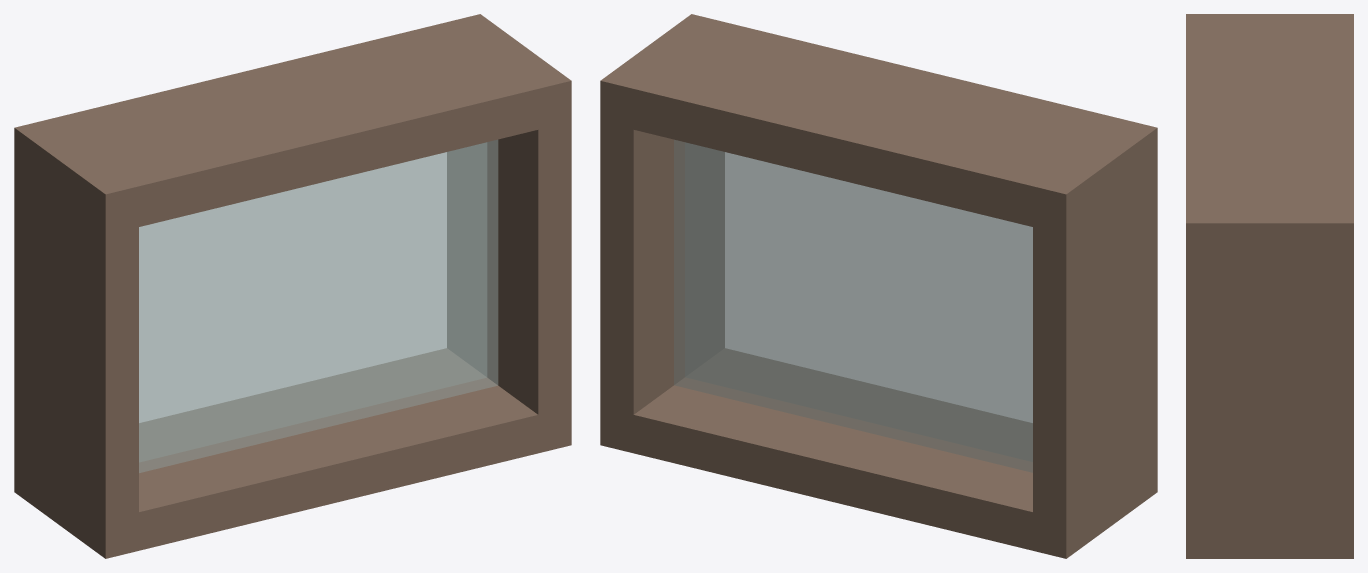
The model's file is windowIntact.fbx.
3 views of the same model, side by side, from view 1: azimuth 30°, elevation 25°; view 2: azimuth 150°, elevation 25°; view 3: azimuth 270°, elevation 25° (orthographic). The views are drawn at different scales.
Parts seen in each view (by area): view 1: windowFrame16, glass1; view 2: windowFrame16, glass1; view 3: windowFrame16.
Part boxes in pixels (bbox=[...]): windowFrame16: bbox=[14, 14, 571, 558]; glass1: bbox=[139, 139, 498, 472]; windowFrame16: bbox=[600, 14, 1157, 558]; glass1: bbox=[674, 139, 1032, 472]; windowFrame16: bbox=[1186, 14, 1353, 558].
Bounding box in the file's own units: 2.15 × 1.61 × 0.7279.
